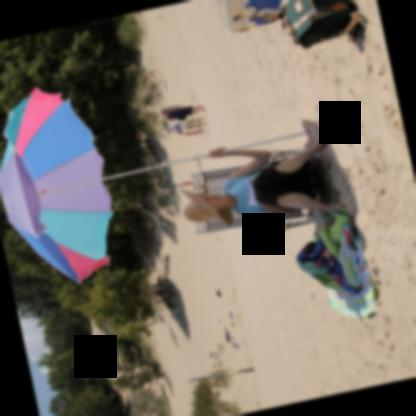backpack: (274, 0, 361, 47), (161, 103, 182, 113)
handbag: (275, 0, 364, 47), (217, 0, 283, 31), (175, 115, 186, 119)
